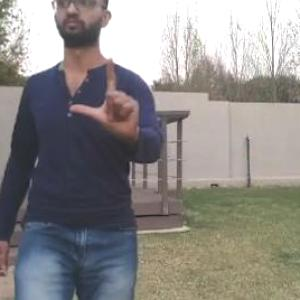land_hand: (66, 50, 144, 141)
